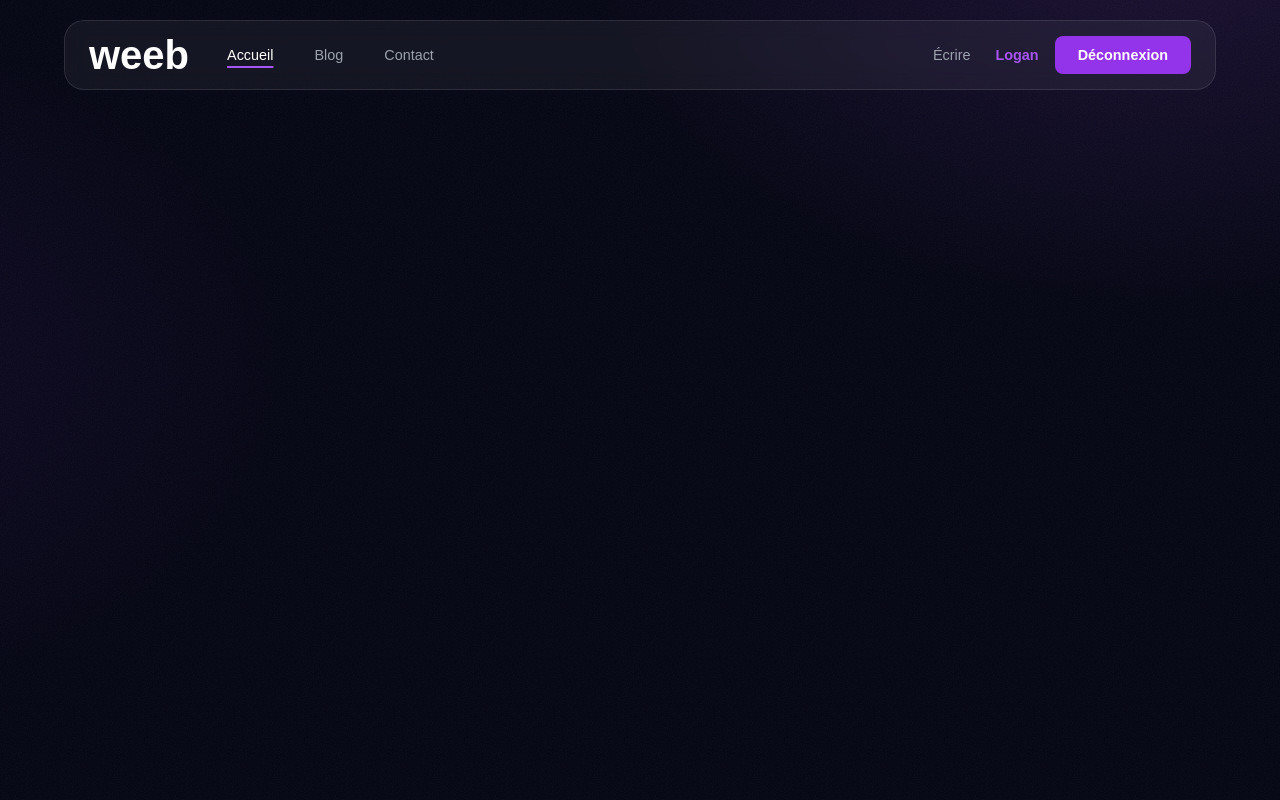
Test: <Navbar> déconnexion › demande une confirmation avant de déconnecter
The width and height of the screenshot is (1280, 800).
Click the button "Déconnexion" at (1123, 55), box [1055, 36, 1191, 74]
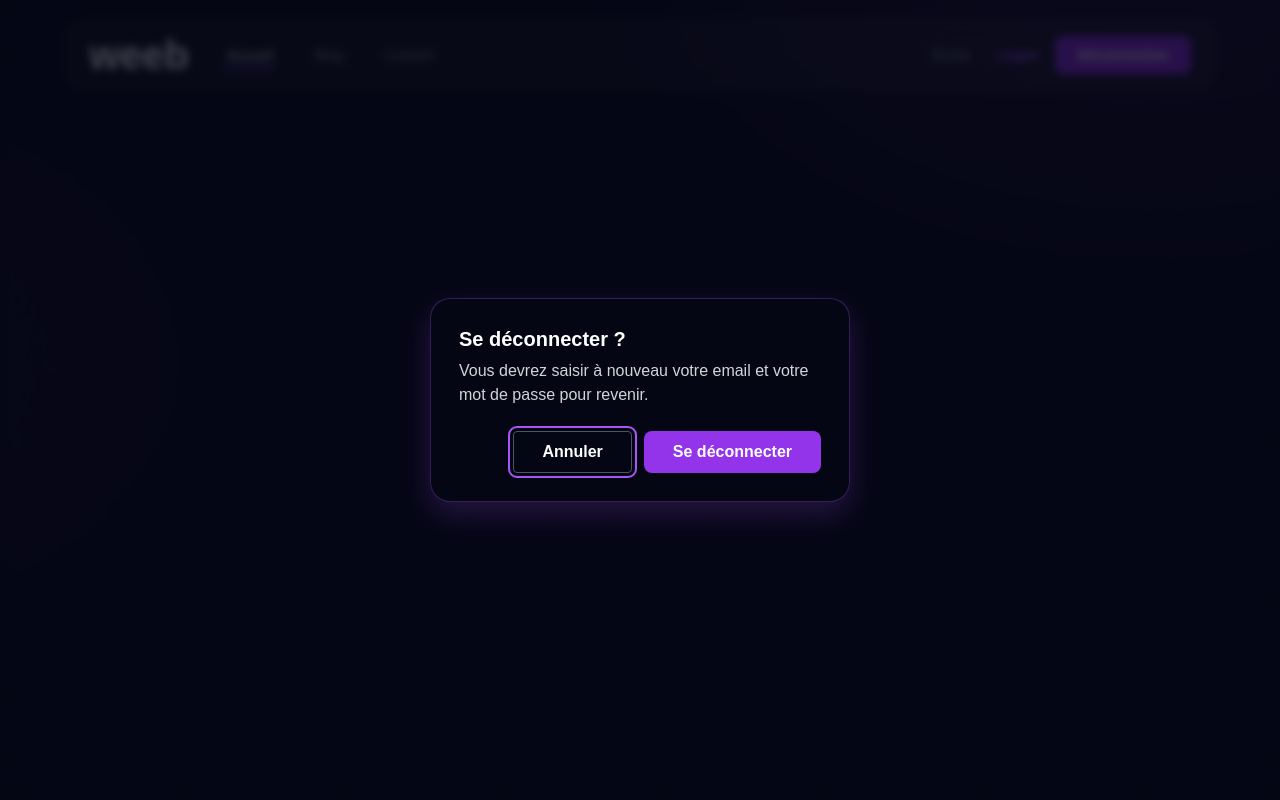
Check: the heading "Se déconnecter ?" is shown, box [459, 328, 626, 350]
Click the button "Se déconnecter" at (732, 452), box [644, 431, 821, 473]
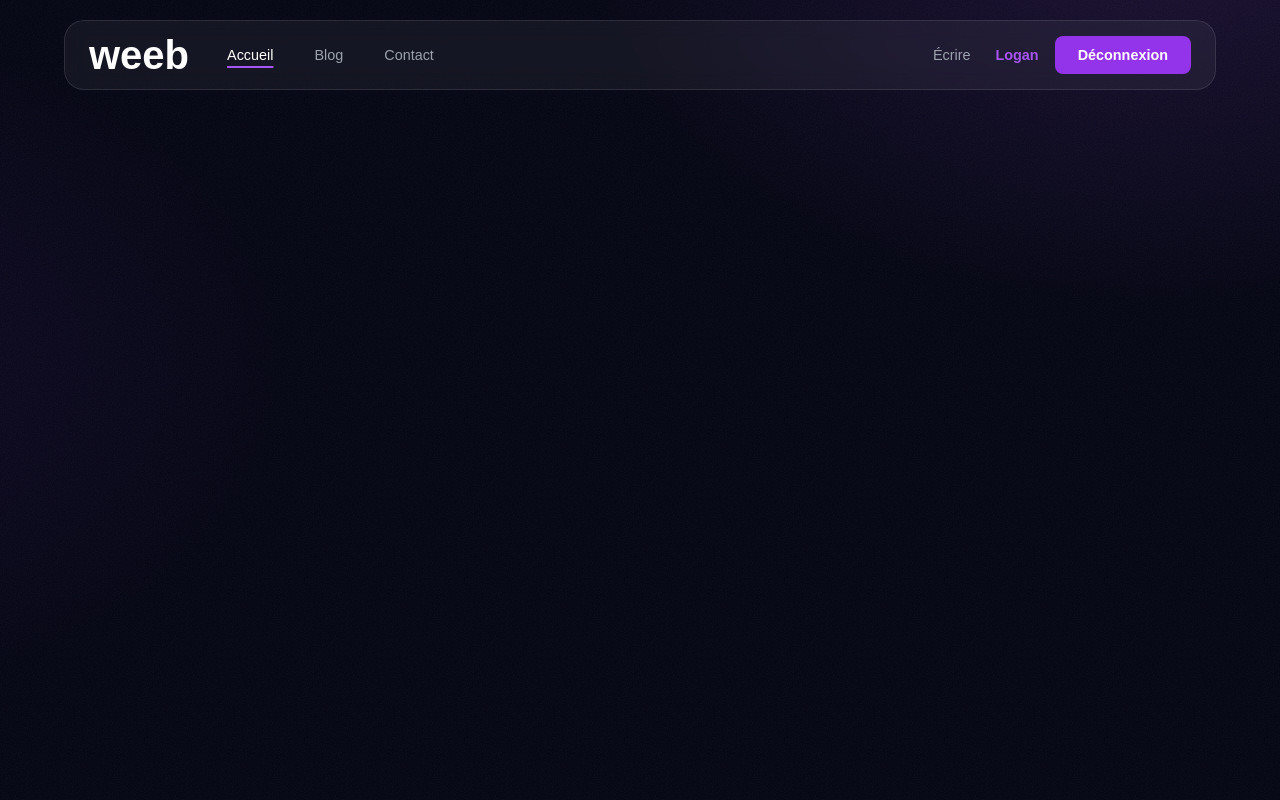
Check: the heading "Se déconnecter ?" is gone
